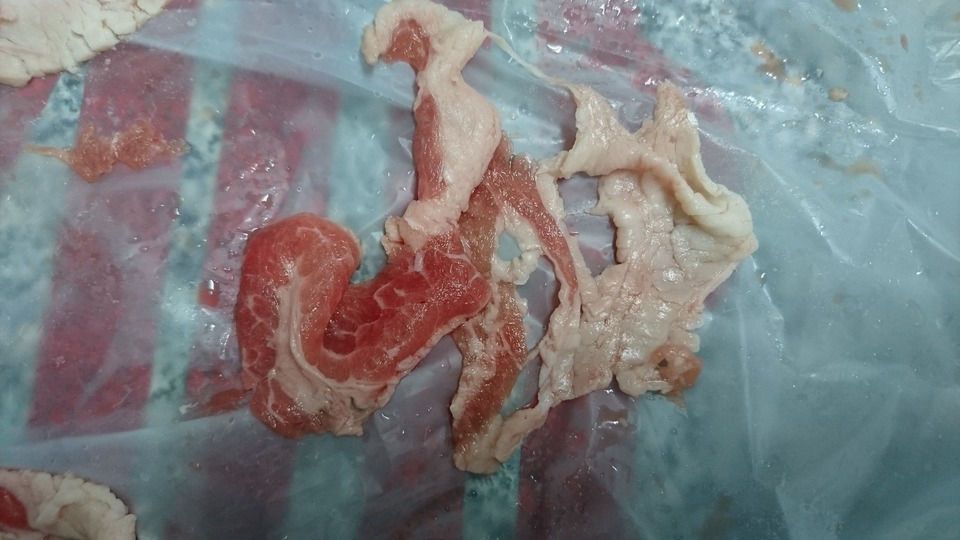restructured meat: (240, 37, 742, 466)
